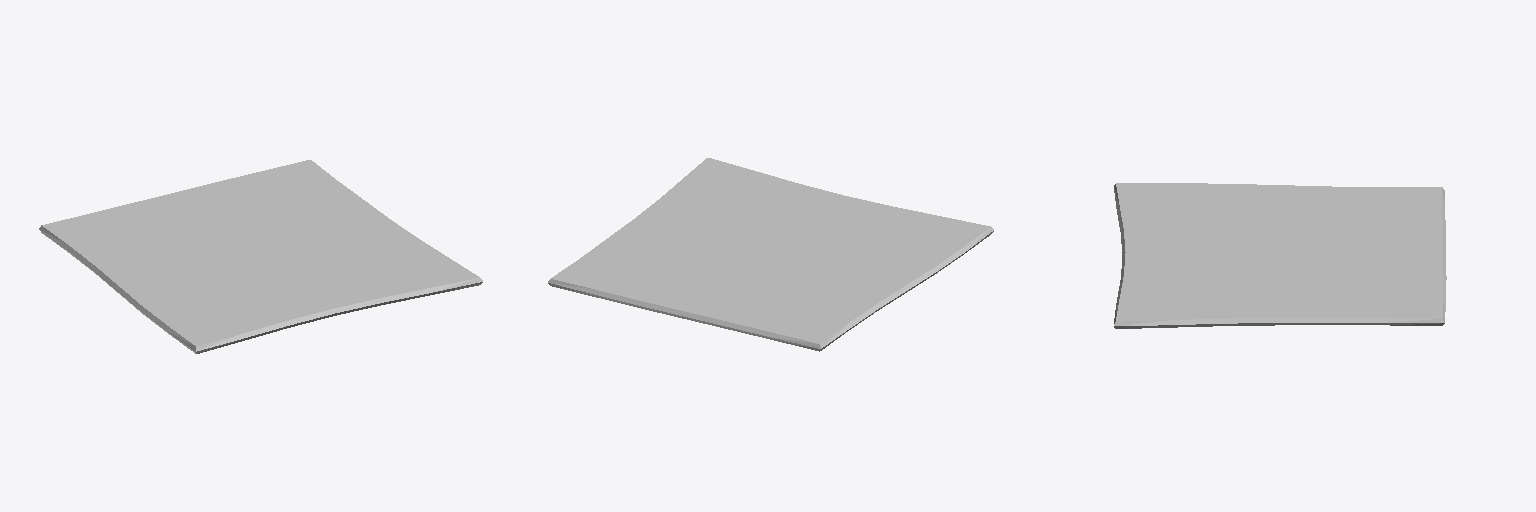
File: picnic_blanket_blue.obj
The picture shows the model from 3 angles: view 1: azimuth 30°, elevation 25°; view 2: azimuth 150°, elevation 25°; view 3: azimuth 270°, elevation 25°; orthographic projection.
Parts seen in each view (by area): view 1: picnic_blanket_blue; view 2: picnic_blanket_blue; view 3: picnic_blanket_blue.
Boxes of the visible parts, x1,y1,x2,y2 form: picnic_blanket_blue: [39, 160, 482, 353]; picnic_blanket_blue: [548, 158, 993, 351]; picnic_blanket_blue: [1114, 183, 1446, 328].
Size of the model in its own units: 4 by 0.1 by 4.